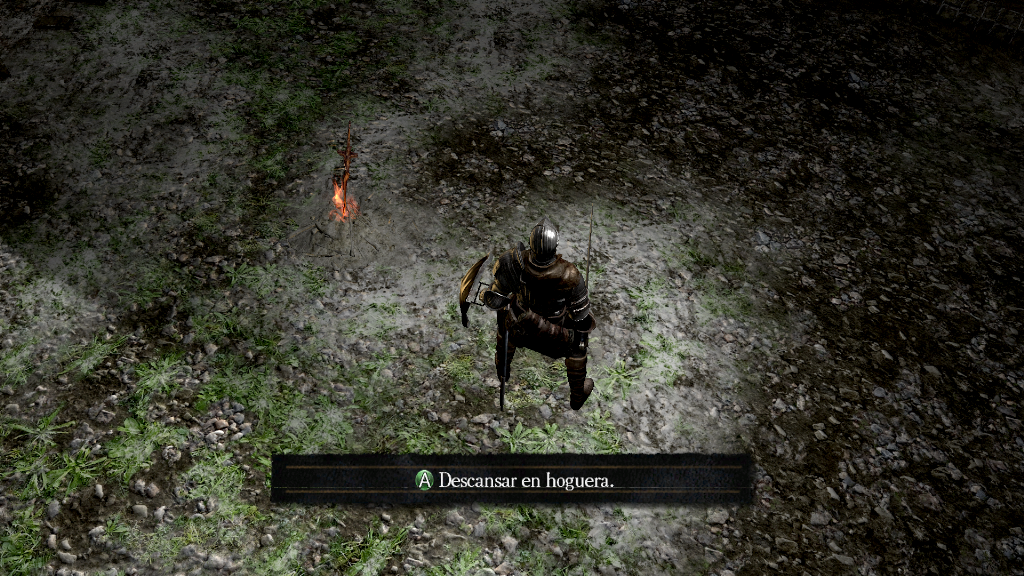bonfire: (321, 117, 368, 238)
dialogBox: (270, 455, 751, 505)
player: (456, 212, 598, 410)
